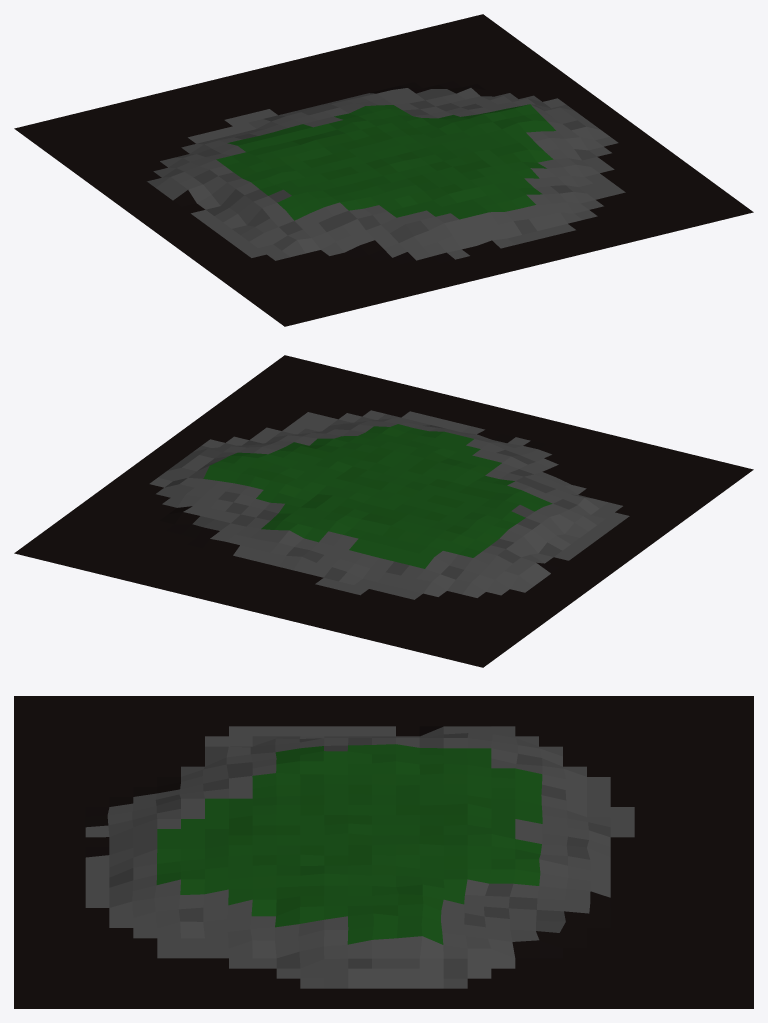
File: Land.glb
The picture shows the model from 3 angles, top to bottom: view 1: azimuth 30°, elevation 25°; view 2: azimuth 150°, elevation 25°; view 3: azimuth 270°, elevation 25°; orthographic projection. The views are drawn at different scales.
Parts seen in each view (by area): view 1: Ground; view 2: Ground; view 3: Ground.
Boxes of the visible parts, bbox=[...] form: Ground: bbox=[14, 14, 753, 326]; Ground: bbox=[14, 355, 753, 667]; Ground: bbox=[14, 696, 753, 1008].
Size of the model in its own units: 200 by 7.65 by 200.
